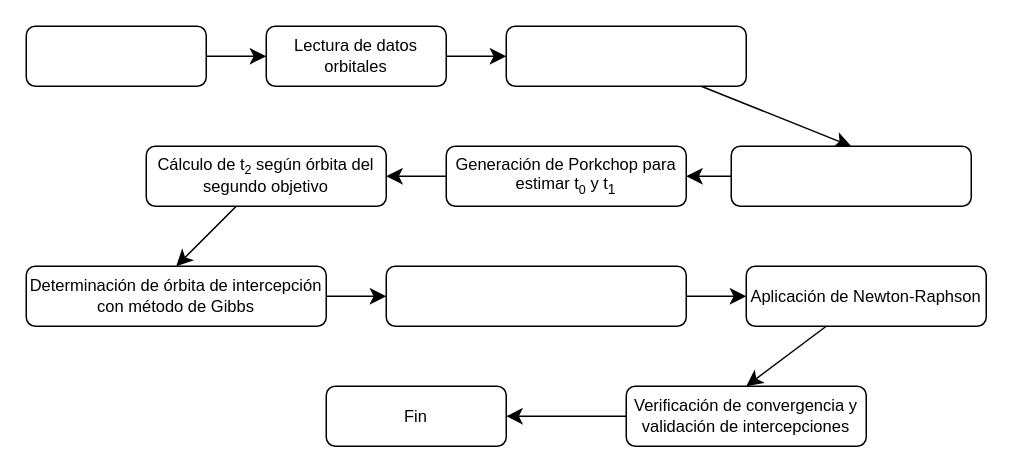
The diagram is 1013 pixels wide and 473 high, and some of its shapes have lost their labels. Here are the shapes that lost their labels. From the top down, the centre of each, then its label:
At point 115,55: "Inicio".
At point 625,55: "Conversión a elementos orbitales y vectores ECI".
At point 850,175: "Cálculo de semieje mayor y excentricidad".
At point 535,295: "Formulación del sistema de ecuaciones no lineales en t 0 y t 1".
